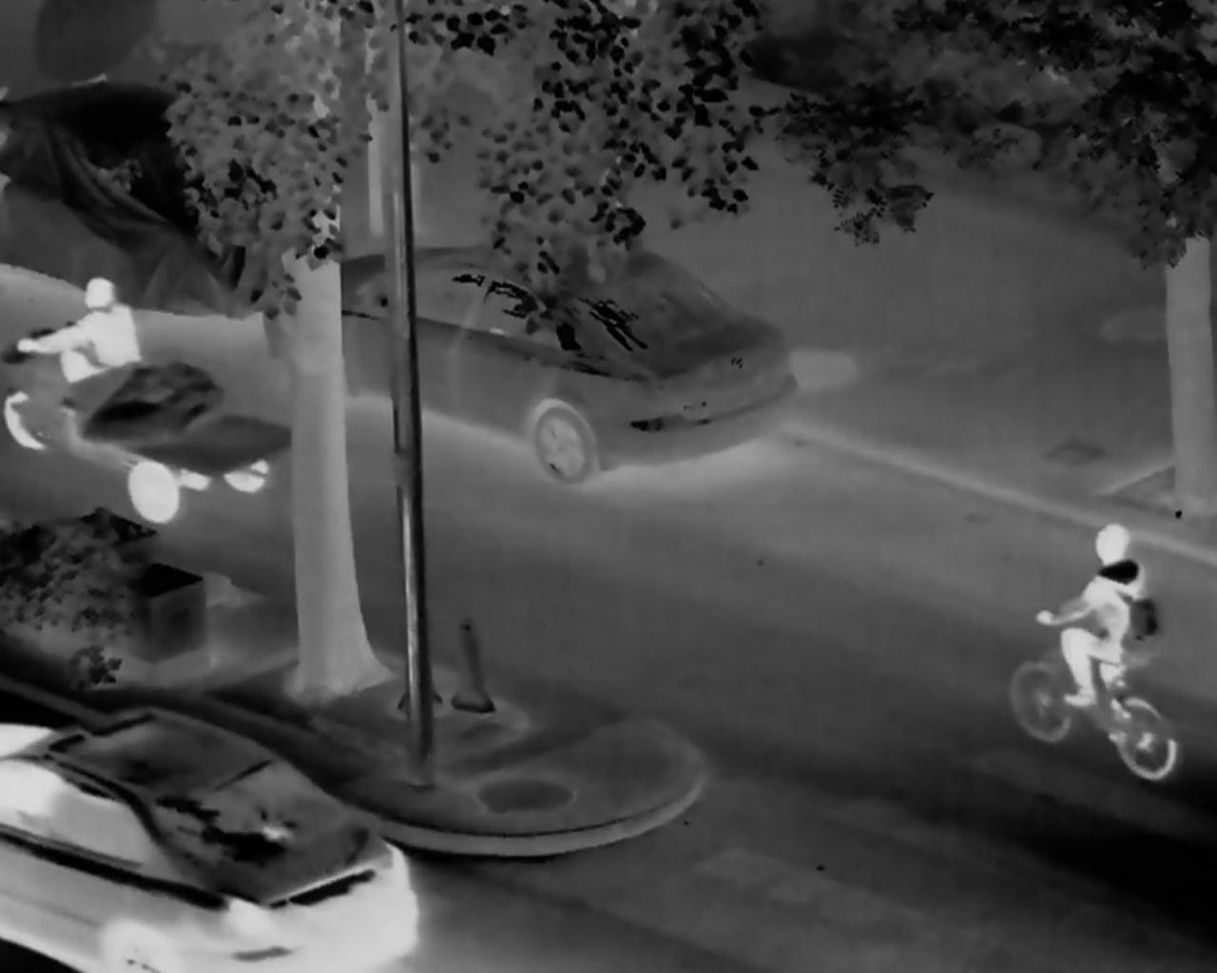person: (1032, 523, 1156, 737), (15, 275, 145, 417)
